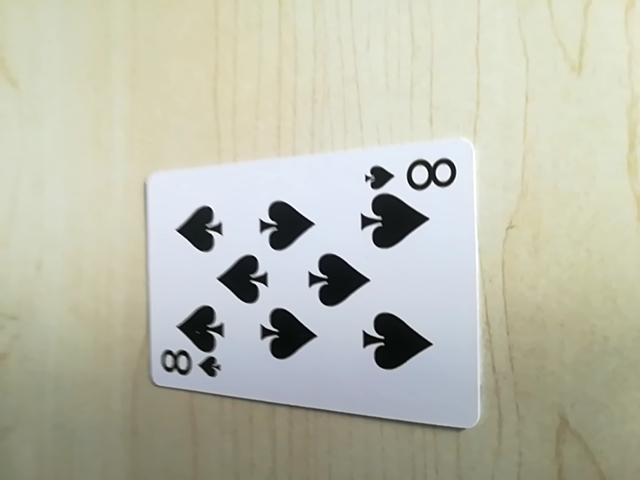ht 8: (362, 150, 462, 195), (154, 346, 227, 386)
